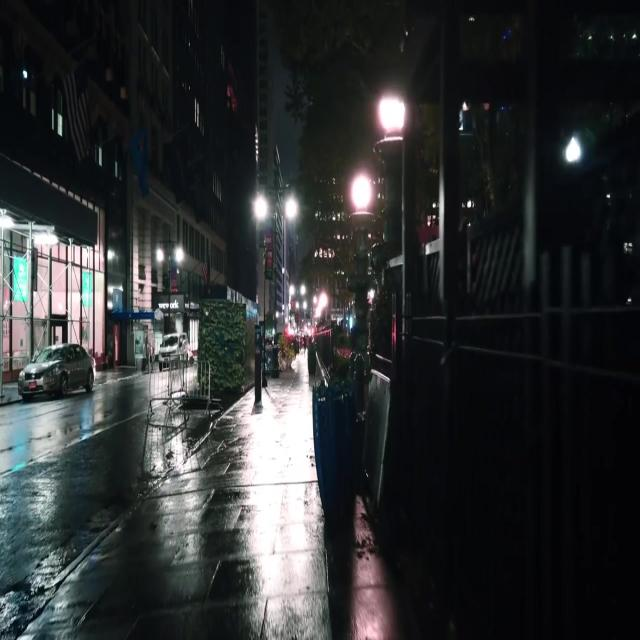Car: (15, 344, 95, 400)
